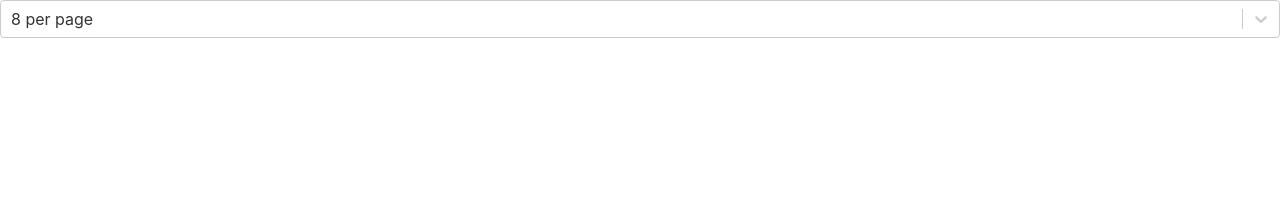
Test case: ItemsPerPage - COMPONENT › updates the selected option when a new option is selected
This screenshot has width=1280, height=220.
Press ArrowDown in the text "8 per page", box left=11, top=9, right=93, bottom=29
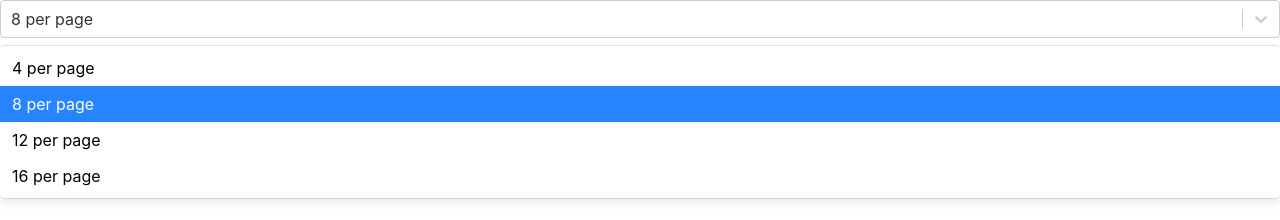
Click the option "12 per page". click: point(56, 140)
box: left=12, top=130, right=100, bottom=150
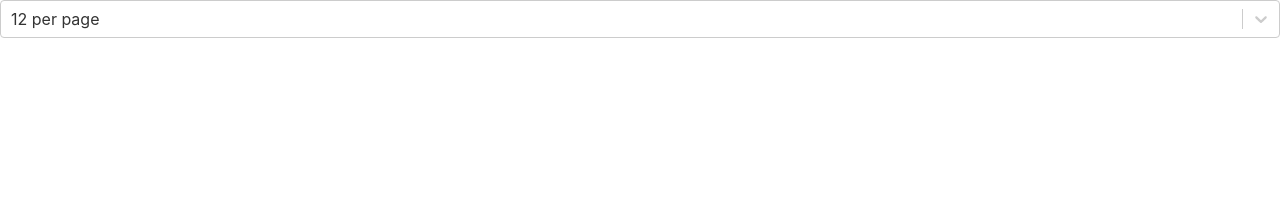
Now the text "12 per page" is shown, box left=11, top=9, right=100, bottom=29
